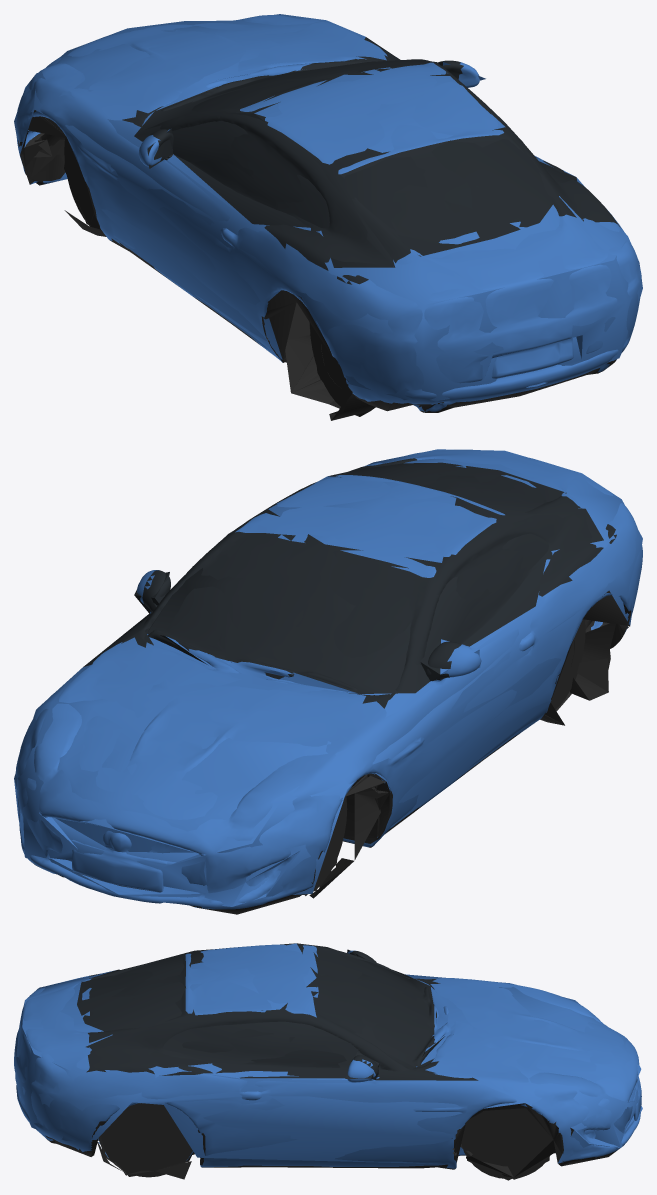
Rendered from jaguar-xk.glb.
The picture shows the model from 3 angles, top to bottom: view 1: azimuth 30°, elevation 25°; view 2: azimuth 150°, elevation 25°; view 3: azimuth 270°, elevation 25°; orthographic projection. The views are drawn at different scales.
Visible parts, largest first — view 1: body, far; view 2: body, far; view 3: body, far.
Part boxes in pixels (x1,y1,x2,y2): body: [15, 15, 641, 420]; far: [14, 14, 642, 420]; body: [15, 449, 642, 914]; far: [14, 449, 642, 906]; body: [14, 944, 641, 1179]; far: [15, 943, 642, 1180].
Bounding box in the file's own units: 2.23 × 1.43 × 4.85.
